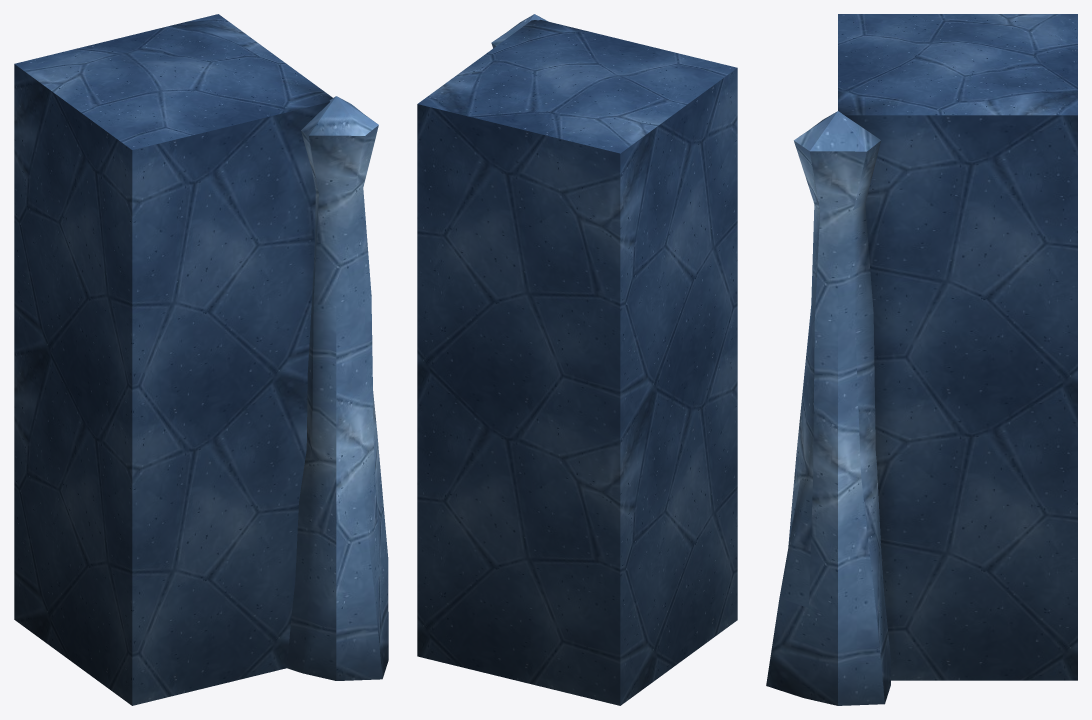
Rendered from cave_wall_ice_inner.glb.
3 views of the same model, side by side, from view 1: azimuth 30°, elevation 25°; view 2: azimuth 150°, elevation 25°; view 3: azimuth 270°, elevation 25° (orthographic). The views are drawn at different scales.
Parts seen in each view (by area): view 1: cave_wall_ice_inner; view 2: cave_wall_ice_inner; view 3: cave_wall_ice_inner.
Boxes of the visible parts, x1,y1,x2,y2 form: cave_wall_ice_inner: (14,14,388,705); cave_wall_ice_inner: (417,14,737,705); cave_wall_ice_inner: (766,14,1077,705).
Bounding box in the file's own units: 1.25 × 2.66 × 1.3.
Materials: 1 (1 with a texture image).
